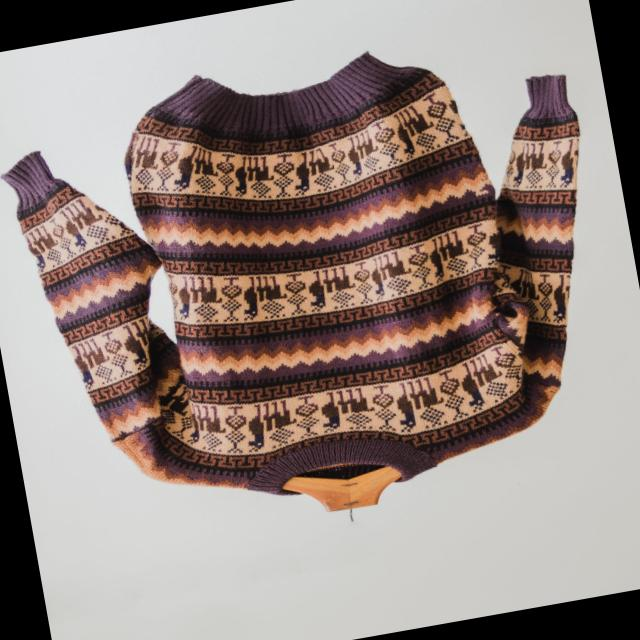Chompa: (0, 11, 639, 563)
